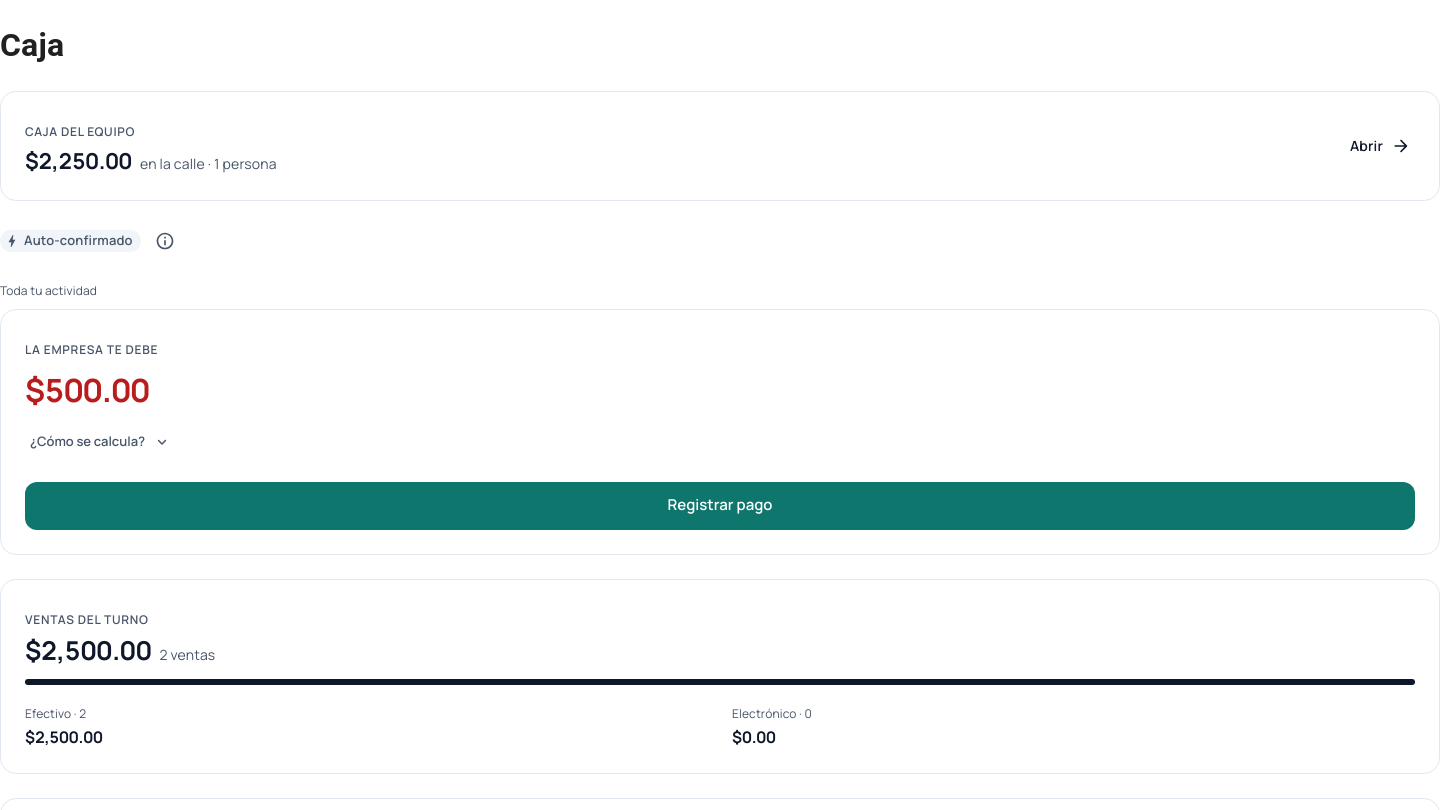
BalanceScreen — the payout is a confirmation, not a form › opens a ConfirmSheet stating the amount owed
Click the button "Registrar pago" at (720, 506), box [25, 482, 1415, 530]
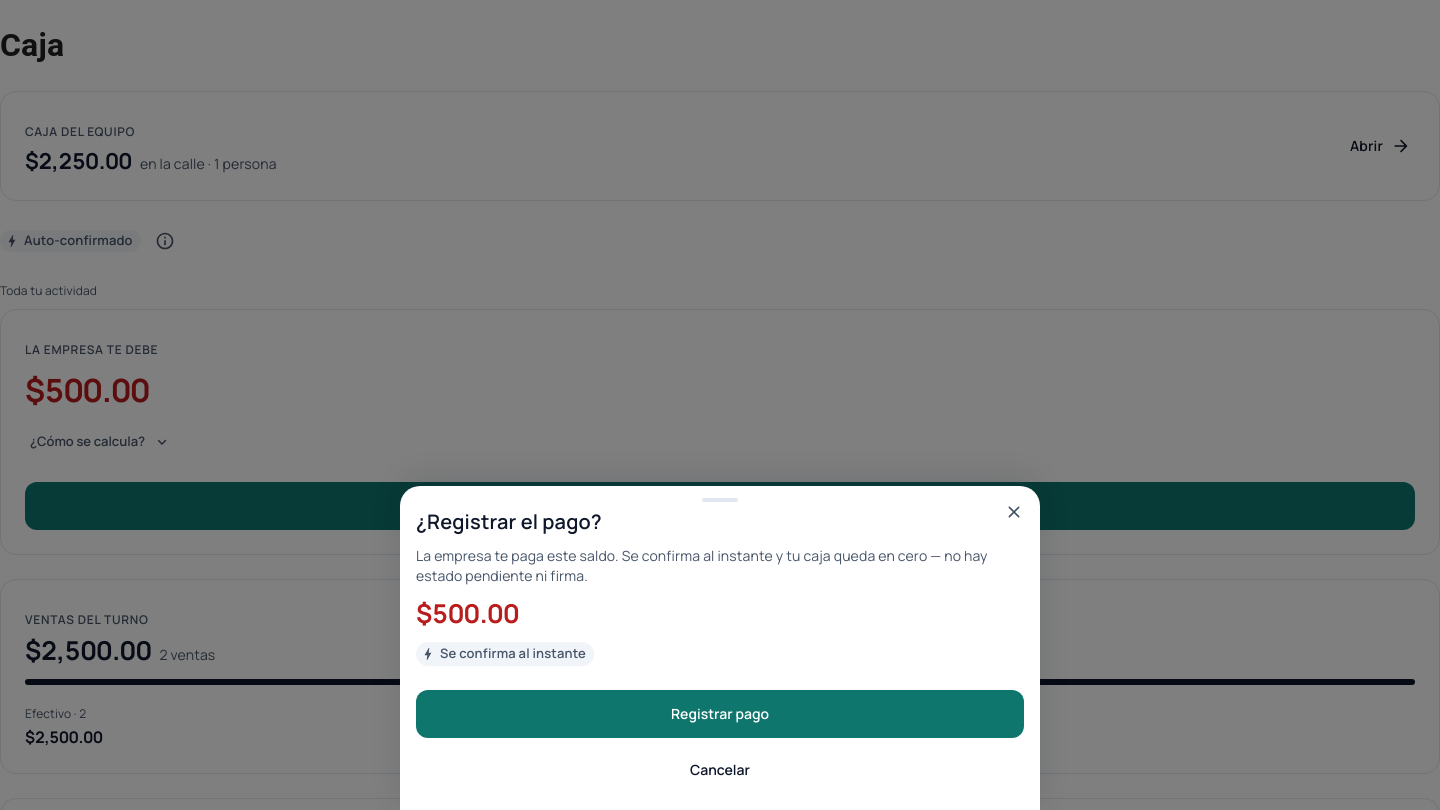
Now the heading "¿Registrar el pago?" is shown, box [416, 508, 602, 535]
Now the text named "La empresa te debe" is shown, box [416, 595, 519, 631]
Now the button "Registrar pago" is shown, box [416, 690, 1024, 738]
